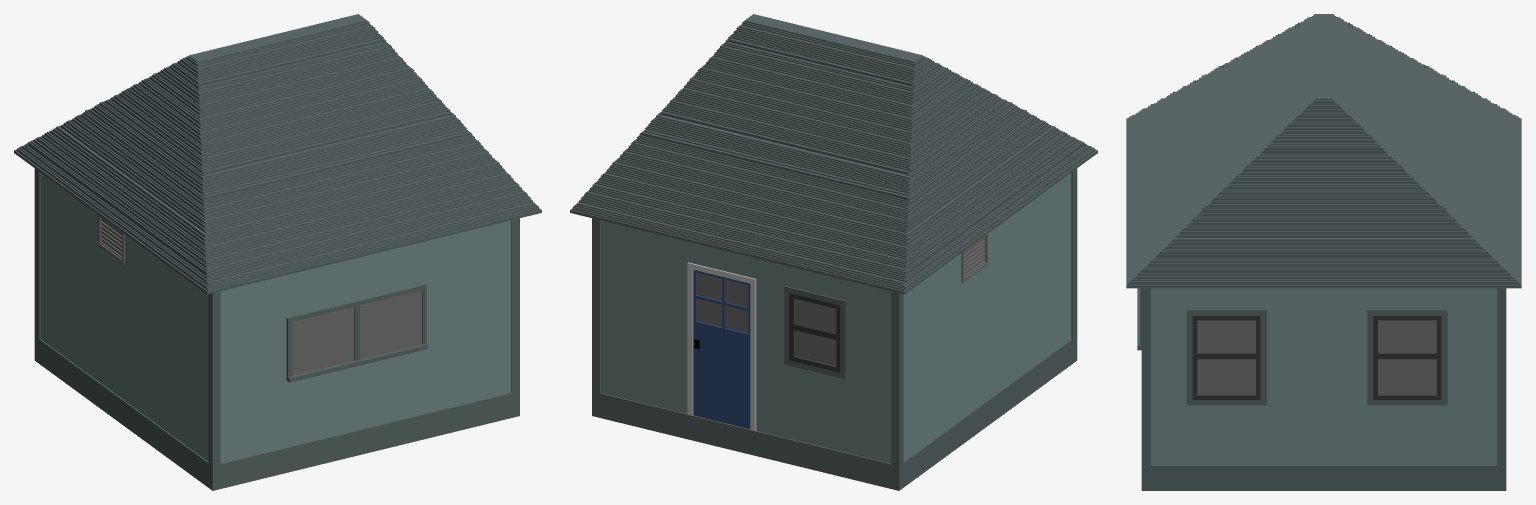
Rendered from home20.obj.
3 views of the same model, side by side, from view 1: azimuth 30°, elevation 25°; view 2: azimuth 150°, elevation 25°; view 3: azimuth 270°, elevation 25° (orthographic). The views are drawn at different scales.
Parts seen in each view (by area): view 1: home1-5; view 2: home1-5; view 3: home1-5.
Part boxes in pixels (<box>): home1-5: <box>14,14,541,490</box>; home1-5: <box>570,14,1097,490</box>; home1-5: <box>1126,14,1521,490</box>.
Size of the model in its own units: 25.6 by 25.6 by 25.6.
1 material, 1 textured.
